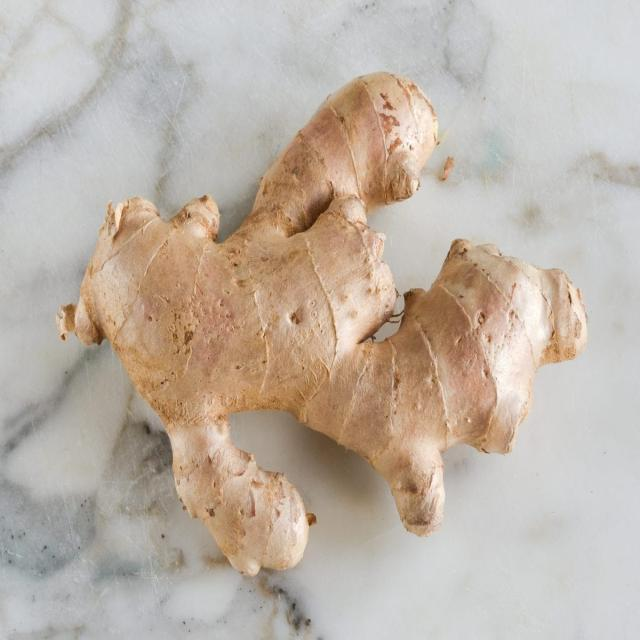ginger-root: (44, 56, 593, 588)
